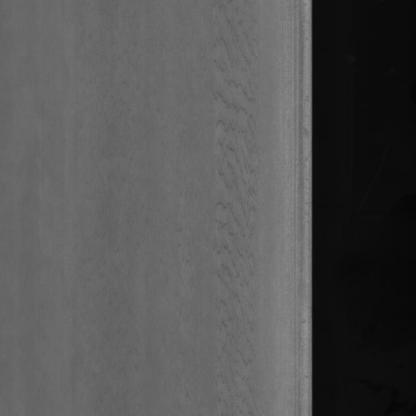silk_spot: (211, 7, 265, 413)
